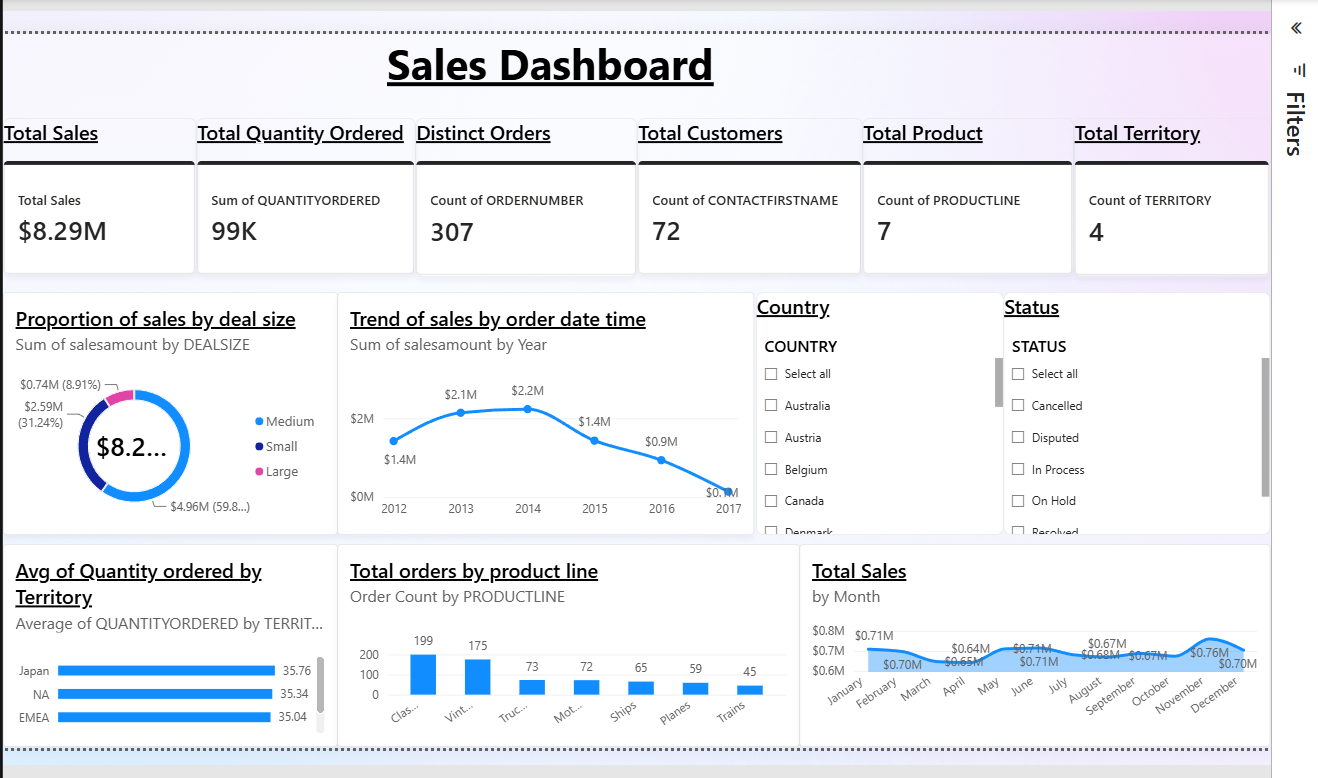

Layout of this report page (visuals, bound fields, positions):
{"tool":"powerbi","page":{"name":"Page 7","canvas":[1280,720],"ordinal":0},"visuals":[{"type":"textbox","box":[387.6,0,331.6,122.7],"z":0},{"type":"cardVisual","title":"Total Quantity Ordered","fields":{"Data":["Sum(vo_1111.QUANTITYORDERED)"]},"box":[195.3,84.8,221.1,159],"z":1000},{"type":"cardVisual","title":"Distinct Orders","fields":{"Data":["Count(vo_1111.ORDERNUMBER)"]},"box":[416.4,84.8,224.1,160.5],"z":2000},{"type":"cardVisual","title":"Total Customers","fields":{"Data":["Count(vo_1111.CONTACTFIRSTNAME)"]},"box":[640.5,84.8,227.1,159],"z":3000},{"type":"cardVisual","title":"Total Product","fields":{"Data":["Count(vo_1111.PRODUCTLINE)"]},"box":[867.6,84.8,213.5,159],"z":4000},{"type":"cardVisual","title":"Total Sales","fields":{"Data":["vo_1111.Total Sales"]},"box":[0,84.8,195.3,159],"z":5000},{"type":"cardVisual","title":"Total Territory","fields":{"Data":["Count(vo_1111.TERRITORY)"]},"box":[1081.1,84.8,198.4,160.5],"z":6000},{"type":"donutChart","title":"Proportion of sales by deal size","fields":{"Category":["vo_1111.DEALSIZE"],"Y":["Sum(vo_1111.salesamount)"]},"box":[0,260.4,337.7,245.3],"z":7000},{"type":"barChart","title":"Avg of Quantity ordered by Territory","fields":{"Category":["vo_1111.TERRITORY"],"Y":["Avg(vo_1111.QUANTITYORDERED)"]},"box":[0,514.8,337.7,204.4],"z":8000},{"type":"lineChart","title":"Trend of sales by order date time","fields":{"Category":["vo_1111.ORDERDATETIME.Variation.Date Hierarchy.Year","vo_1111.ORDERDATETIME.Variation.Date Hierarchy.Quarter","vo_1111.ORDERDATETIME.Variation.Date Hierarchy.Month","vo_1111.ORDERDATETIME.Variation.Date Hierarchy.Day"],"Y":["Sum(vo_1111.salesamount)"]},"box":[337.7,260.4,420.9,245.3],"z":9000},{"type":"clusteredColumnChart","title":"Total orders by product line","fields":{"Category":["vo_1111.PRODUCTLINE"],"Y":["vo_1111.Order Count"]},"box":[337.7,514.8,466.4,204.4],"z":10000},{"type":"slicer","title":"Status","fields":{"Values":["vo_1111.STATUS"]},"box":[1010,260.4,269.5,245.3],"z":11000},{"type":"slicer","title":"Country","fields":{"Values":["vo_1111.COUNTRY"]},"box":[760.1,260.4,249.8,245.3],"z":12000},{"type":"areaChart","fields":{"Y":["vo_1111.Total Sales"],"Category":["vo_1111.ORDERDATETIME.Variation.Date Hierarchy.Month"]},"box":[804,514.8,475.5,204.4],"z":13000}]}

Visuals, with their boxes on the page's 1280x720 design canvas (x1, y1, x2, y2). These are canvas units, not pixel positions in the 1318x778 screenshot, which may show the page scaled, cropped or inside an application window:
textbox: Rect(388, 0, 719, 123)
"Total Quantity Ordered" cardVisual: Rect(195, 85, 416, 244)
"Distinct Orders" cardVisual: Rect(416, 85, 640, 245)
"Total Customers" cardVisual: Rect(640, 85, 868, 244)
"Total Product" cardVisual: Rect(868, 85, 1081, 244)
"Total Sales" cardVisual: Rect(0, 85, 195, 244)
"Total Territory" cardVisual: Rect(1081, 85, 1280, 245)
"Proportion of sales by deal size" donutChart: Rect(0, 260, 338, 506)
"Avg of Quantity ordered by Territory" barChart: Rect(0, 515, 338, 719)
"Trend of sales by order date time" lineChart: Rect(338, 260, 759, 506)
"Total orders by product line" clusteredColumnChart: Rect(338, 515, 804, 719)
"Status" slicer: Rect(1010, 260, 1280, 506)
"Country" slicer: Rect(760, 260, 1010, 506)
areaChart - vo_1111.Total Sales x vo_1111.ORDERDATETIME.Variation.Date Hierarchy.Month: Rect(804, 515, 1280, 719)
